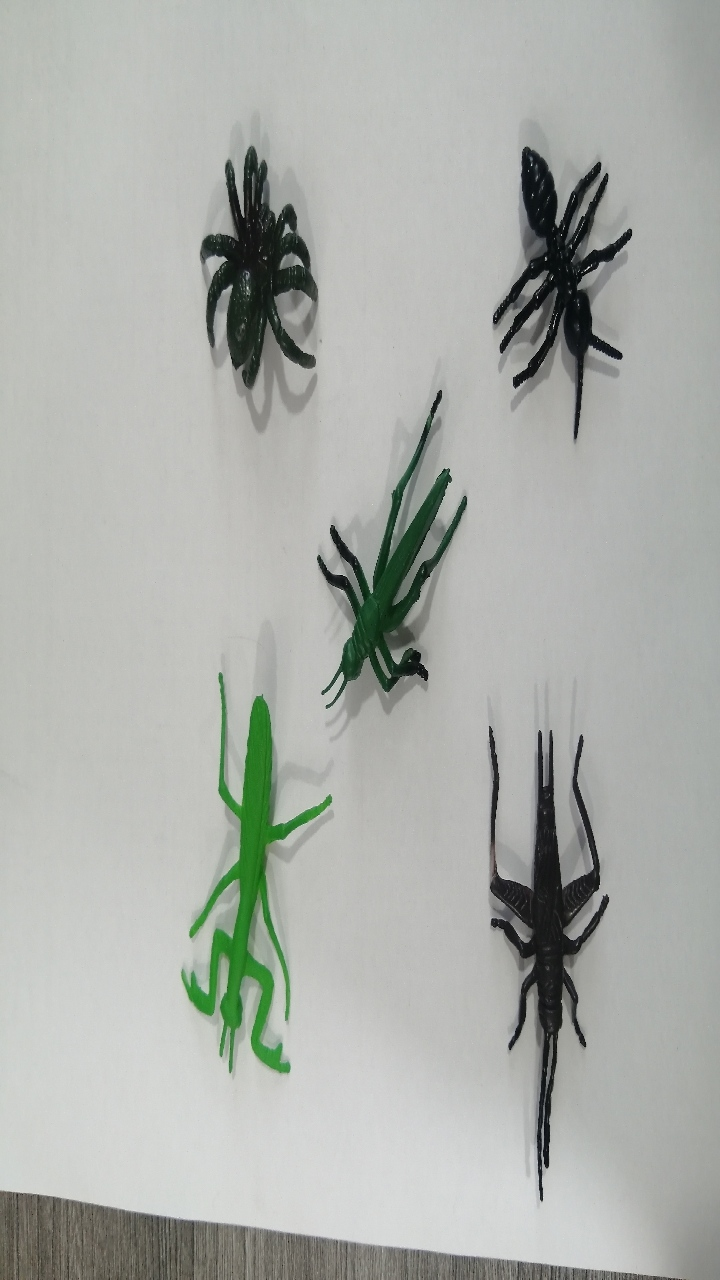intruso: (446, 702, 628, 1243), (132, 643, 332, 1091), (294, 397, 498, 726), (451, 120, 652, 442), (160, 123, 348, 449)
